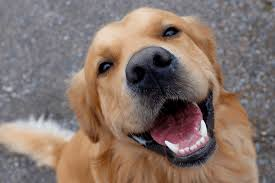Bulldog: (26, 5, 268, 178)
